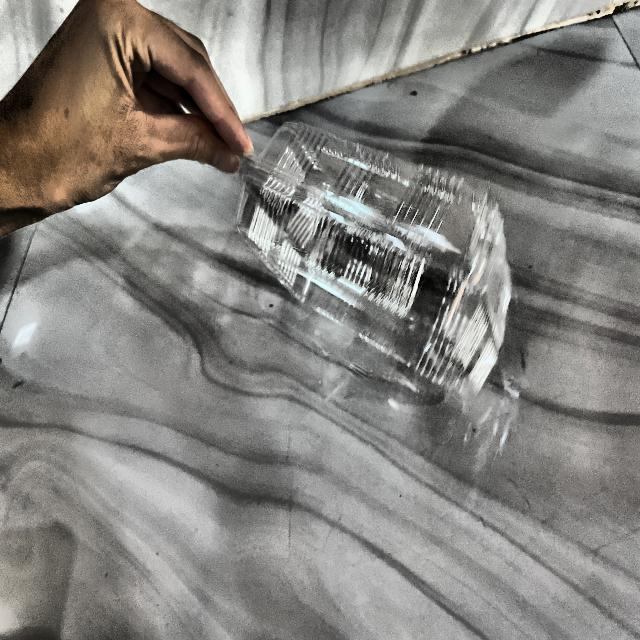plastic container: (222, 109, 537, 419)
